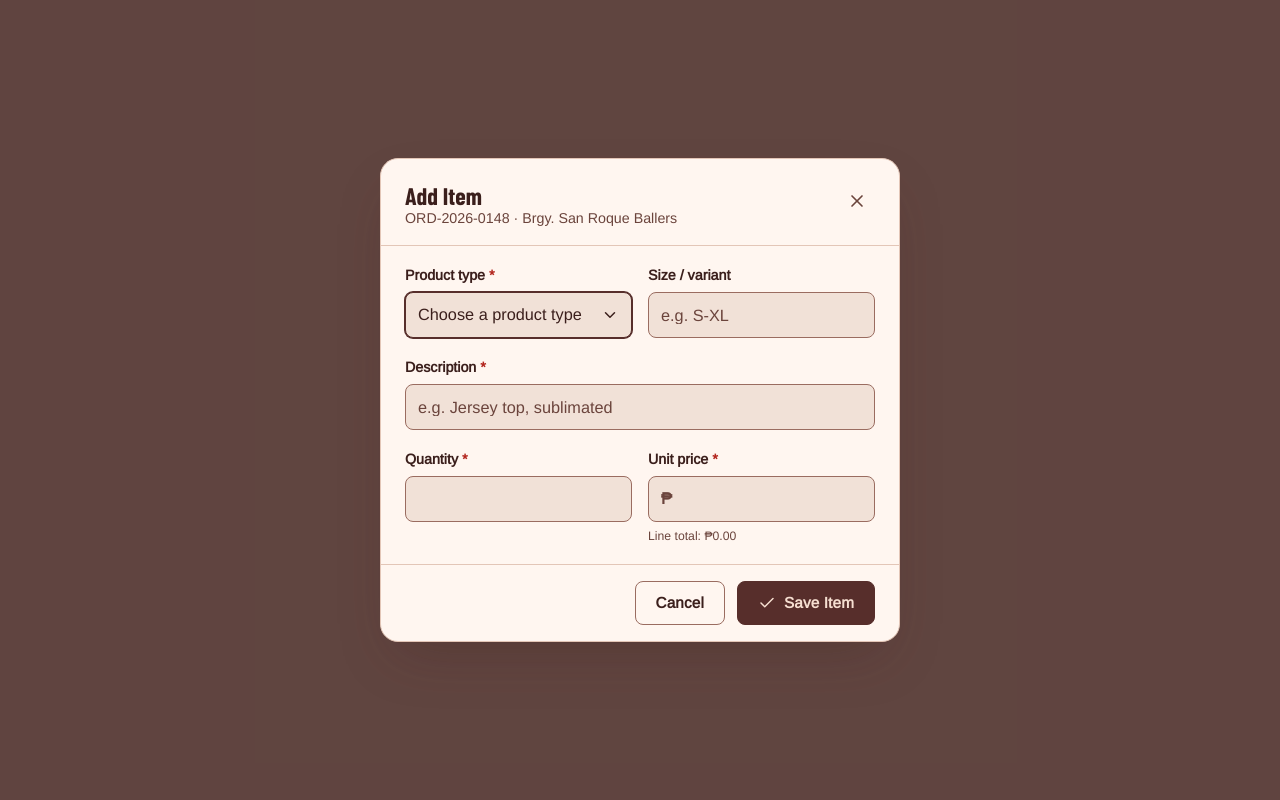
Test: add mode saving (ORD-07 idempotency, ORD-08) › toasts "Item added" with the balance from the answer
The image size is (1280, 800).
Select "Basketball Jersey" in the dropdown labelled "Product type *" at (518, 315), box x1=406 y1=293 x2=631 y2=337
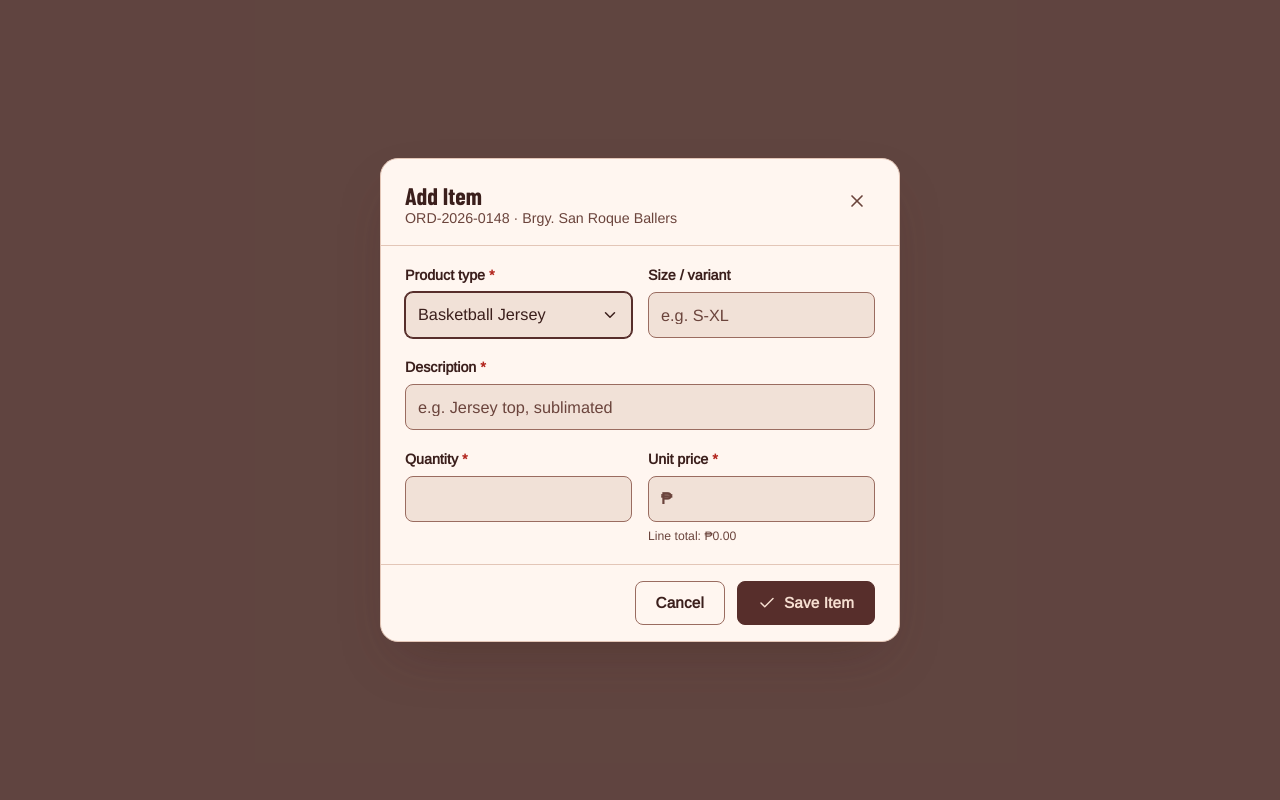
Type "S-XL" into the field labelled "Size / variant" at (762, 315), box x1=649 y1=293 x2=874 y2=337
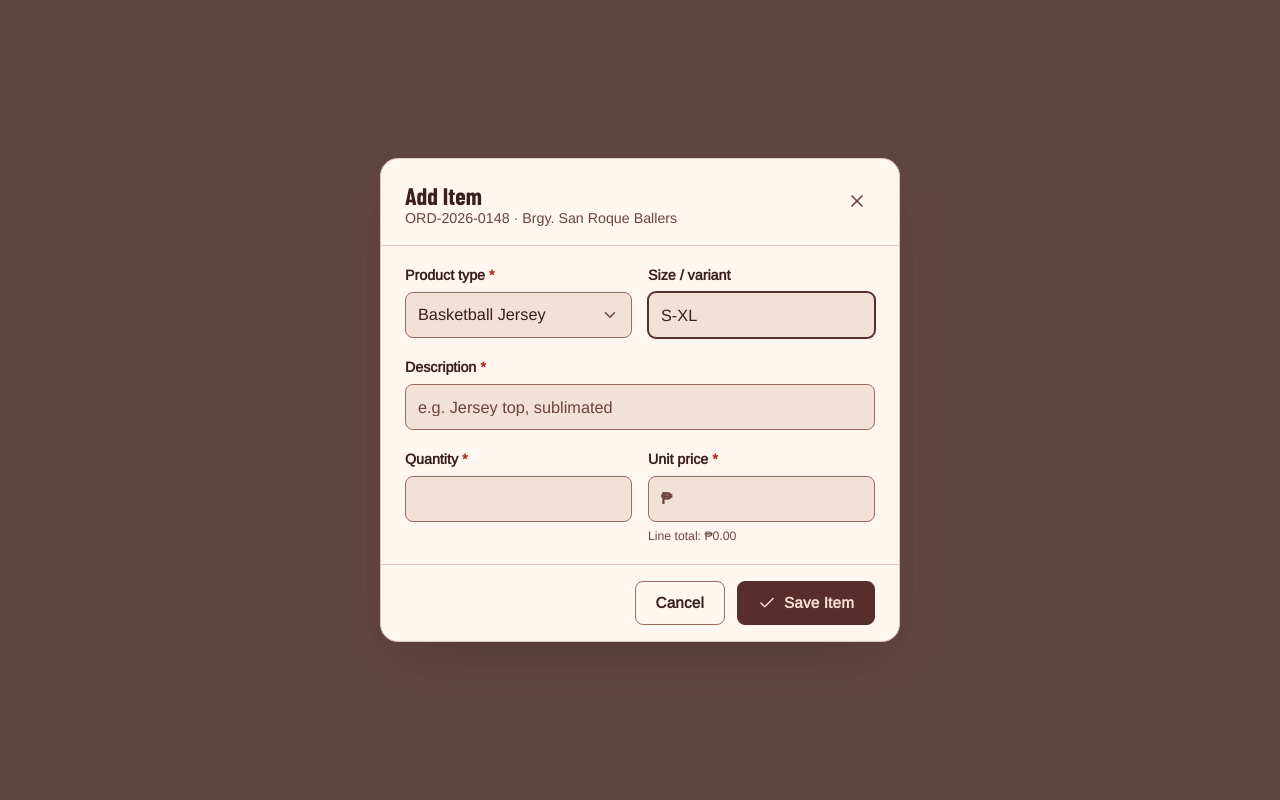
Type "Warm-up jacket" into the field labelled "Description *" at (640, 407), box x1=406 y1=385 x2=874 y2=429
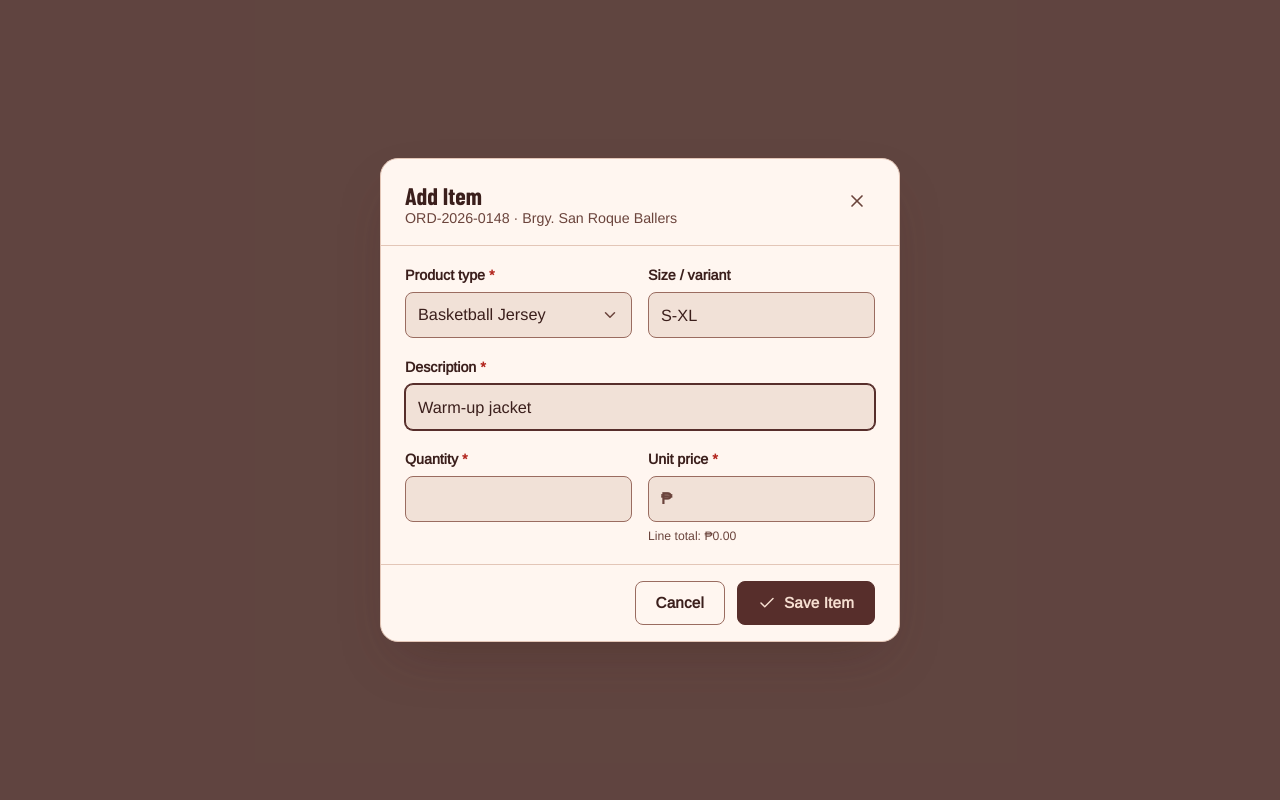
Type "12" into the field labelled "Quantity *" at (518, 499), box x1=406 y1=477 x2=631 y2=521
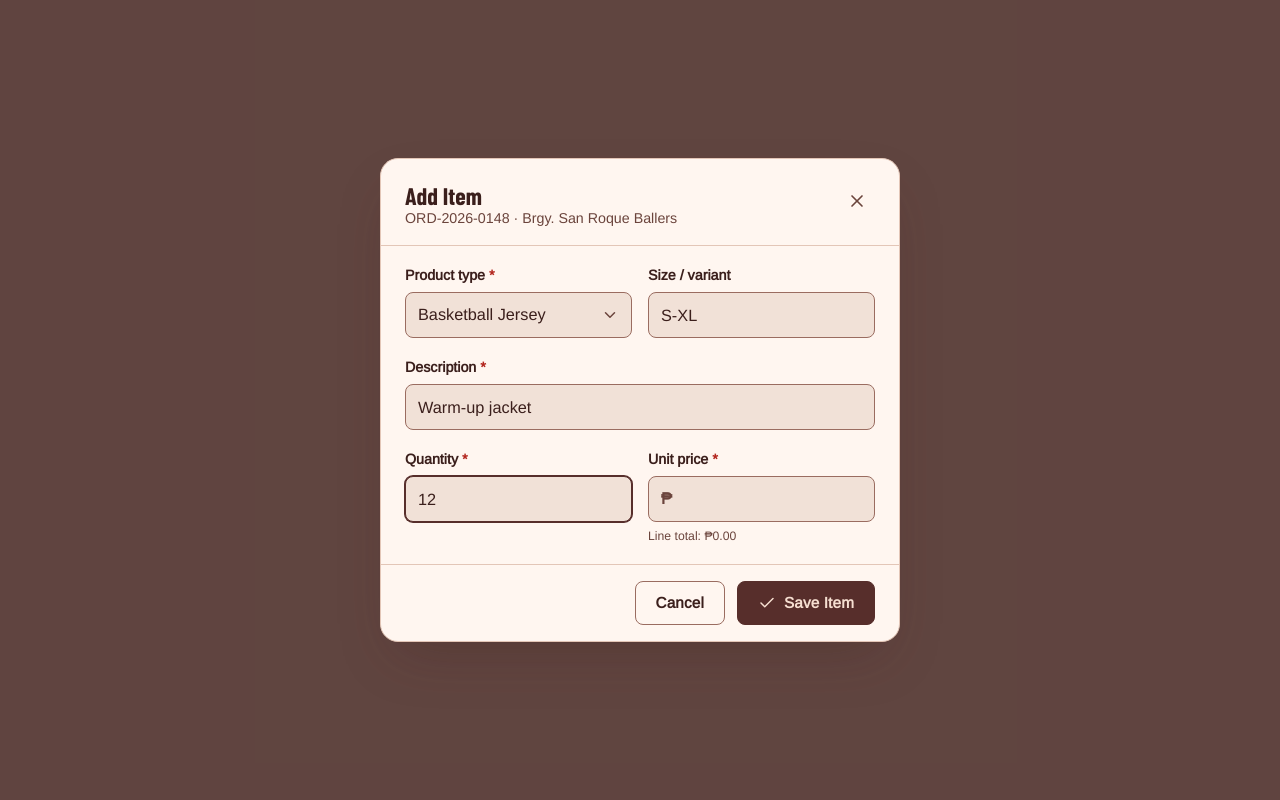
Type "780" into the field labelled "Unit price *" at (773, 499), box x1=672 y1=477 x2=874 y2=521
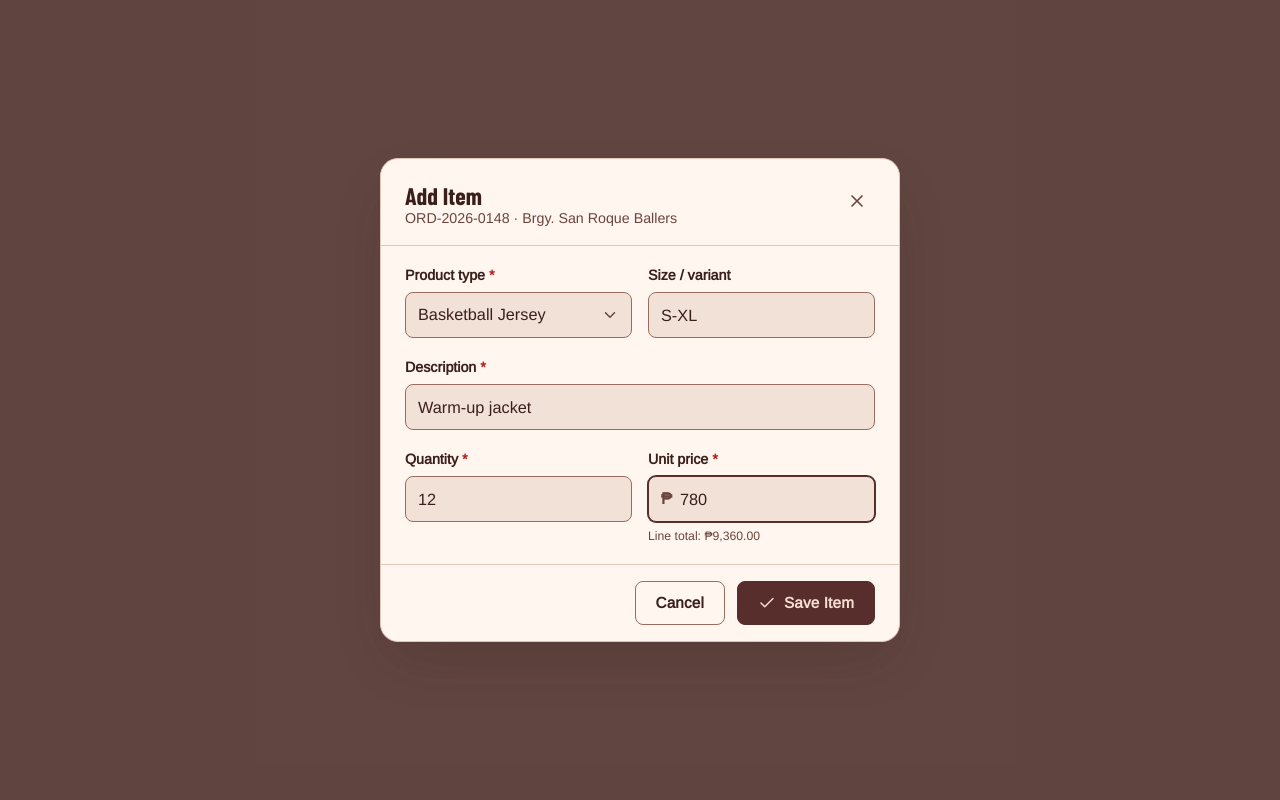
Click the button "Save Item" at (806, 603), box x1=737 y1=581 x2=875 y2=625
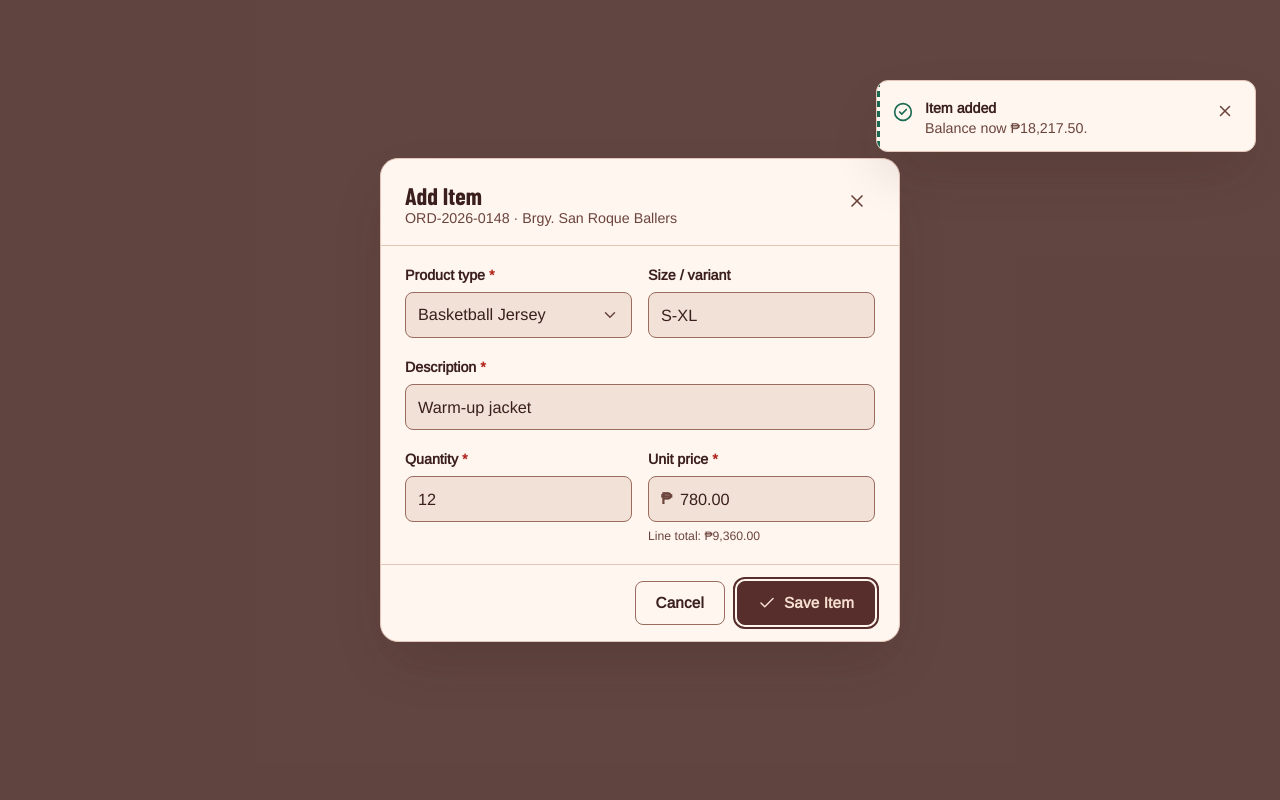
Expected: the text "Item added" is shown, x1=925 y1=101 x2=996 y2=116
Expected: the text "Balance now ₱18,217.50." is shown, x1=925 y1=121 x2=1087 y2=136
